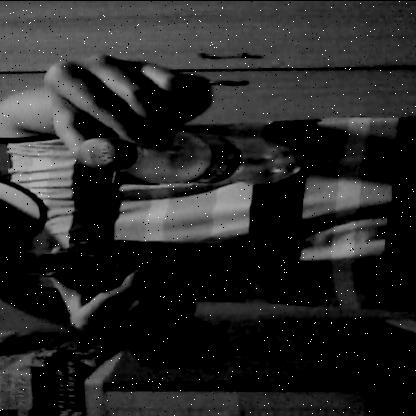Plastic Bottle: (64, 128, 324, 190)
